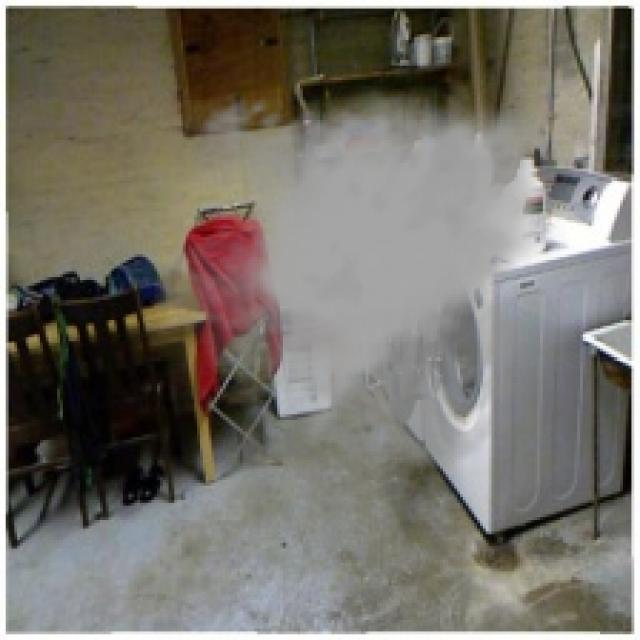Smoke: (154, 86, 566, 474)
